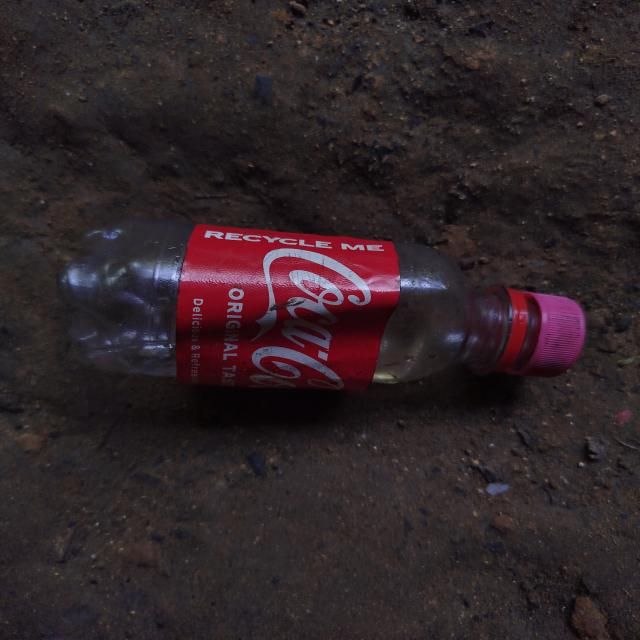plastic: (40, 195, 600, 422)
